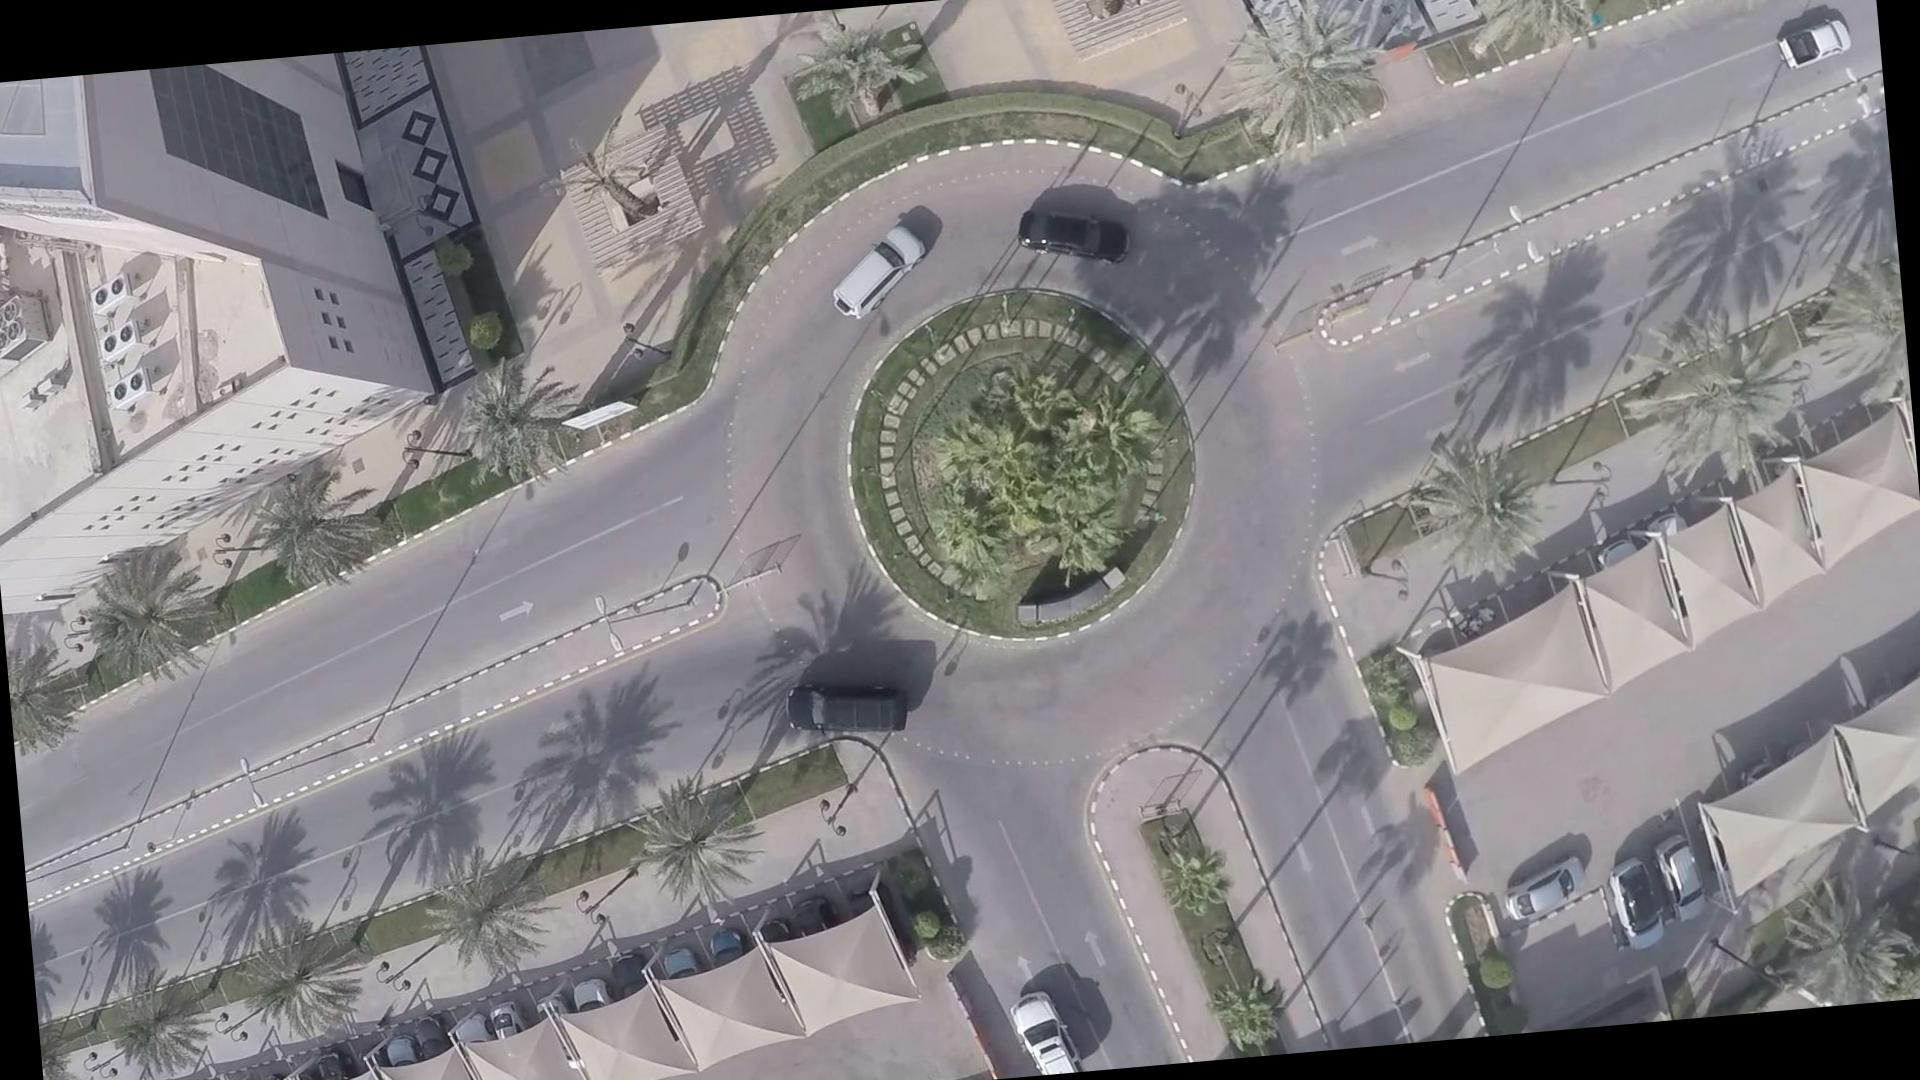vehicle: (993, 202, 1145, 284), (814, 220, 928, 316), (766, 678, 914, 746)
